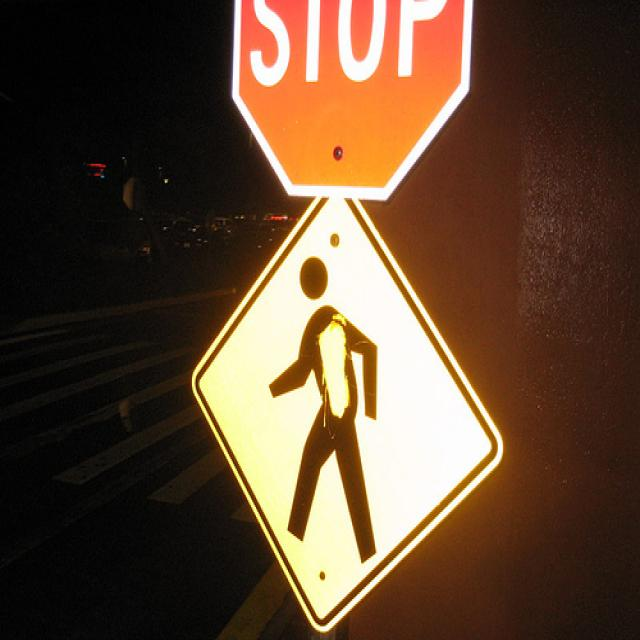Vehicle: (90, 153, 148, 235), (216, 217, 280, 270), (214, 217, 232, 227)
